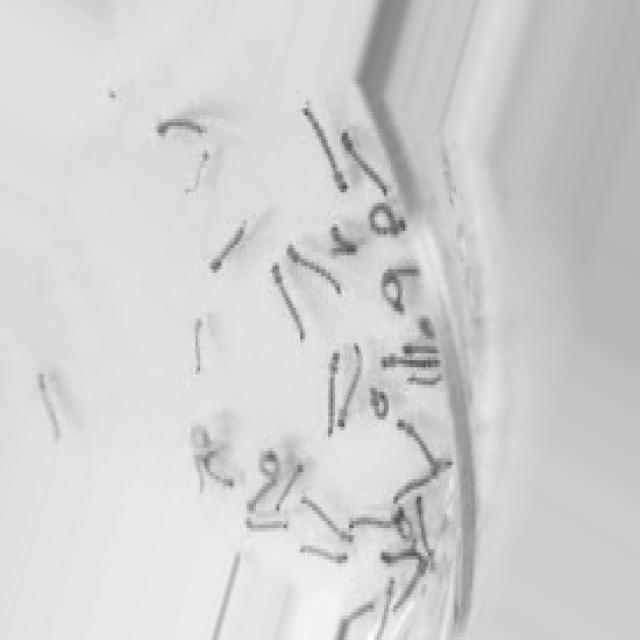larvas: (300, 100, 353, 199), (339, 122, 393, 208), (267, 251, 315, 346), (283, 238, 345, 298), (300, 494, 359, 551), (396, 407, 444, 473), (337, 343, 368, 429), (391, 556, 429, 618), (391, 463, 442, 509), (210, 227, 245, 269), (299, 542, 352, 568), (375, 578, 397, 640), (369, 203, 406, 238), (39, 371, 58, 437), (185, 154, 213, 198), (340, 595, 375, 630), (156, 116, 206, 140), (205, 452, 232, 491), (326, 352, 338, 437), (380, 355, 440, 372), (328, 230, 358, 260), (280, 466, 300, 508), (414, 500, 430, 550), (346, 516, 392, 531), (382, 278, 402, 312), (402, 339, 439, 356), (371, 388, 390, 420), (190, 422, 210, 452), (246, 489, 276, 509), (192, 453, 206, 494), (261, 451, 280, 480), (247, 520, 289, 533), (193, 317, 202, 373), (389, 264, 420, 280), (394, 512, 413, 538), (408, 376, 446, 388), (381, 552, 420, 561)
